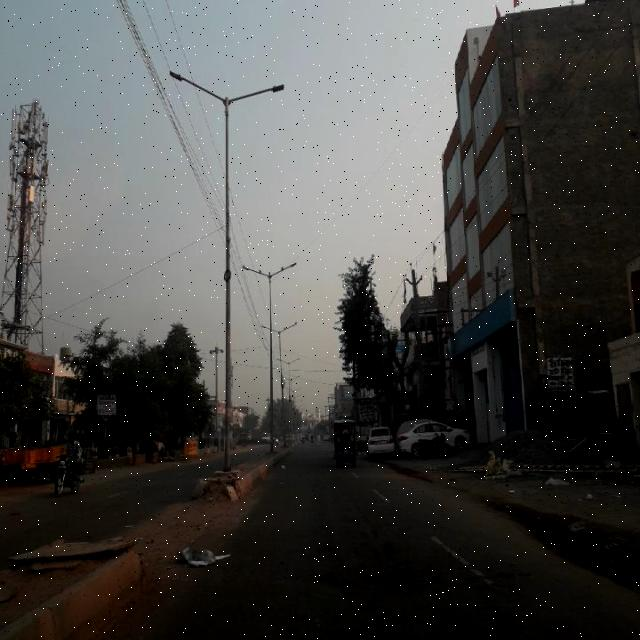D44: (422, 528, 512, 584)
